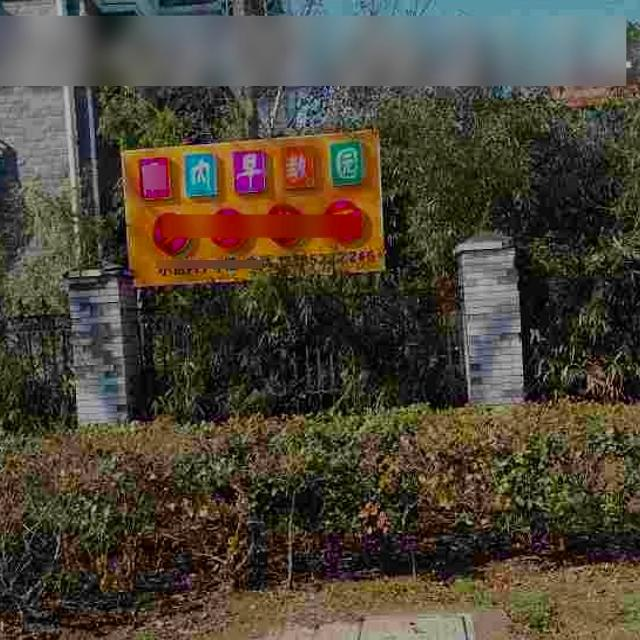good: (230, 609, 487, 640)
